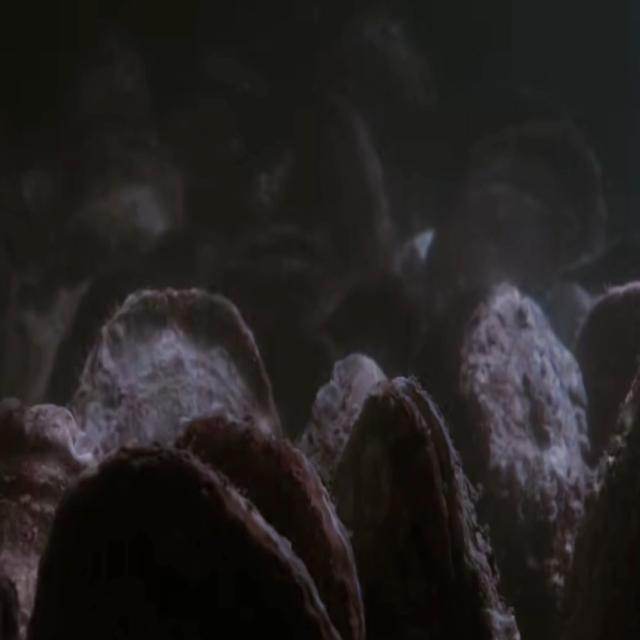Oyster-Closed: (30, 442, 341, 640), (174, 411, 366, 640), (0, 394, 105, 640)
Oyster-Indeterminate: (67, 287, 281, 640), (454, 281, 594, 640), (427, 117, 607, 332), (297, 354, 392, 640), (291, 89, 397, 284), (62, 143, 188, 282), (572, 280, 640, 511)
Oyster-Open: (329, 375, 517, 640), (218, 218, 341, 333)
